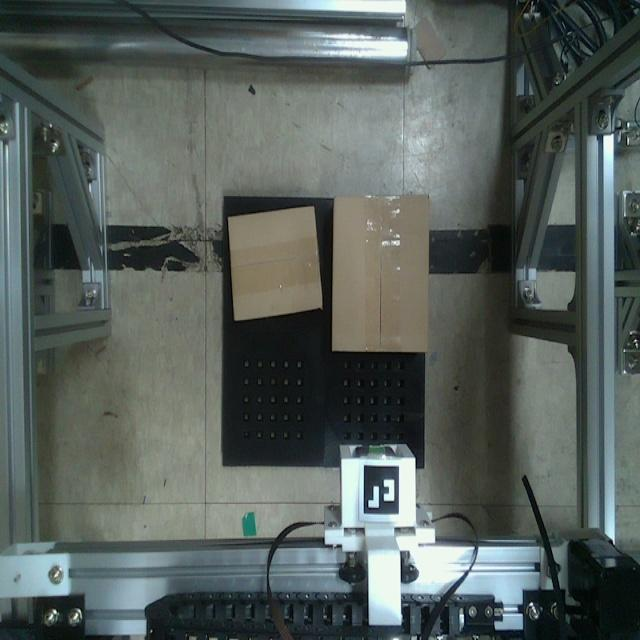box: (327, 188, 434, 356), (223, 202, 327, 326)
